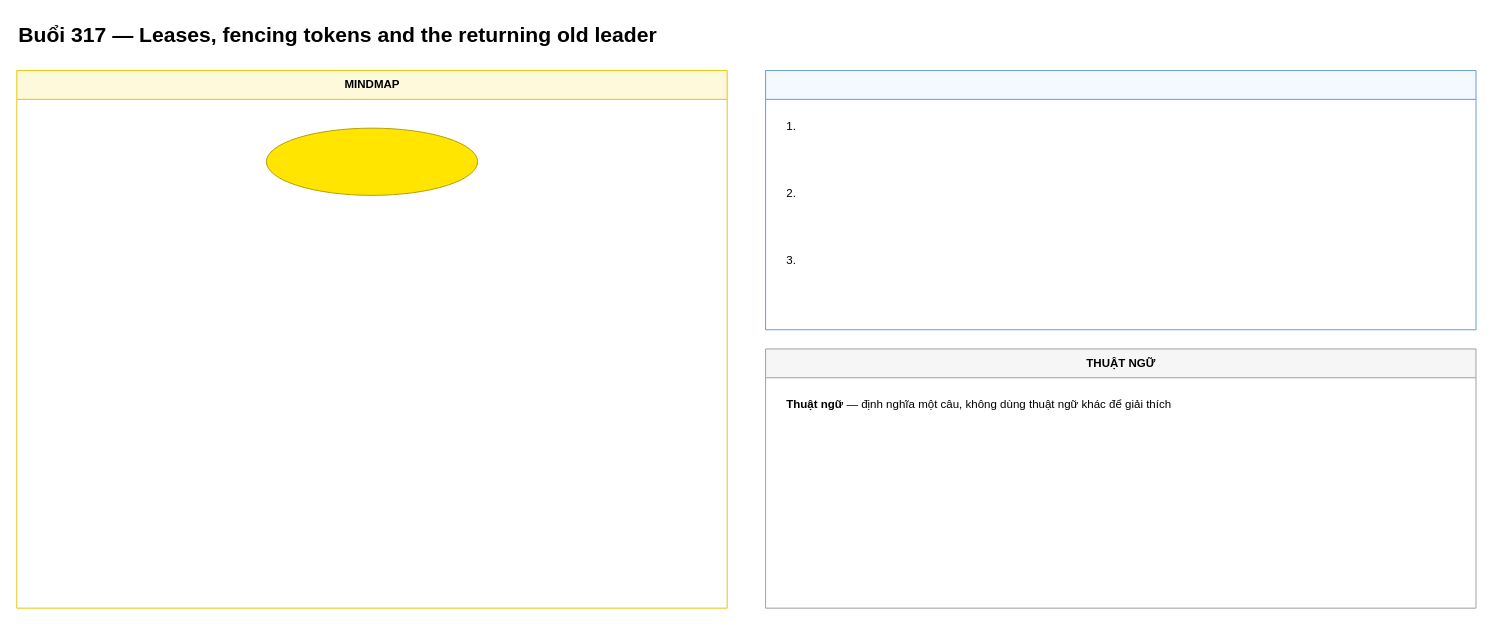
Image size: 1493x625. Some labels were removed from this diagram. The box of each missing label's shape, as (x1, y1, x2, y2) in pixels:
KEY TAKEAWAY — ba điều phải nhớ: (765, 70, 1476, 330)
Leases, fencing tokens and the returning old leader: (265, 127, 478, 195)
